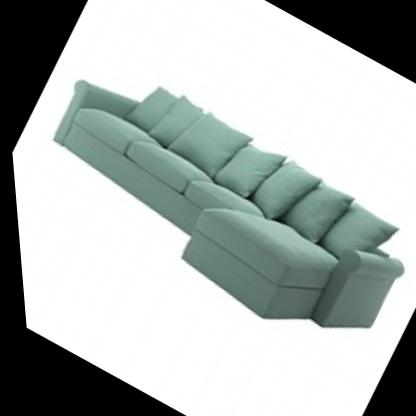Sofa: (1, 11, 416, 377)
